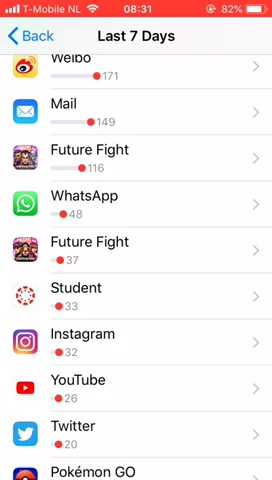not_app: (6, 89, 165, 137), (8, 227, 164, 272), (7, 138, 169, 181), (8, 181, 154, 228), (9, 273, 150, 320), (10, 321, 150, 364), (10, 412, 142, 457), (11, 366, 138, 410)
week: (92, 24, 183, 49)
